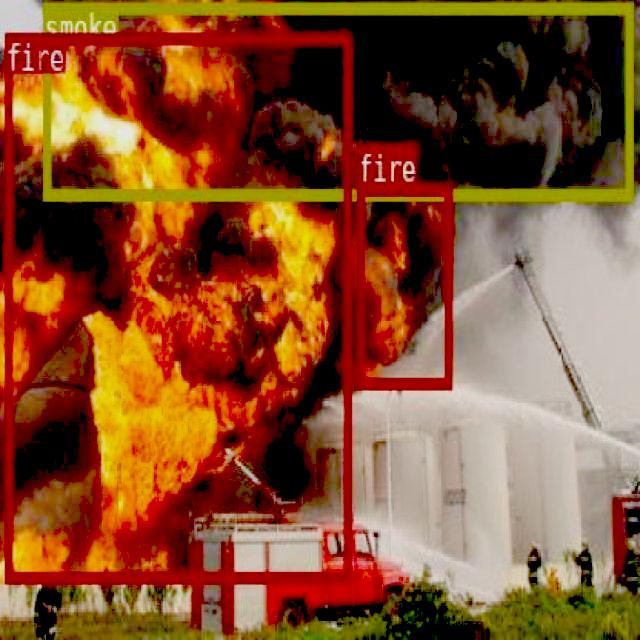fire: (4, 31, 350, 582), (356, 182, 450, 387)
smoke: (43, 2, 632, 198)
